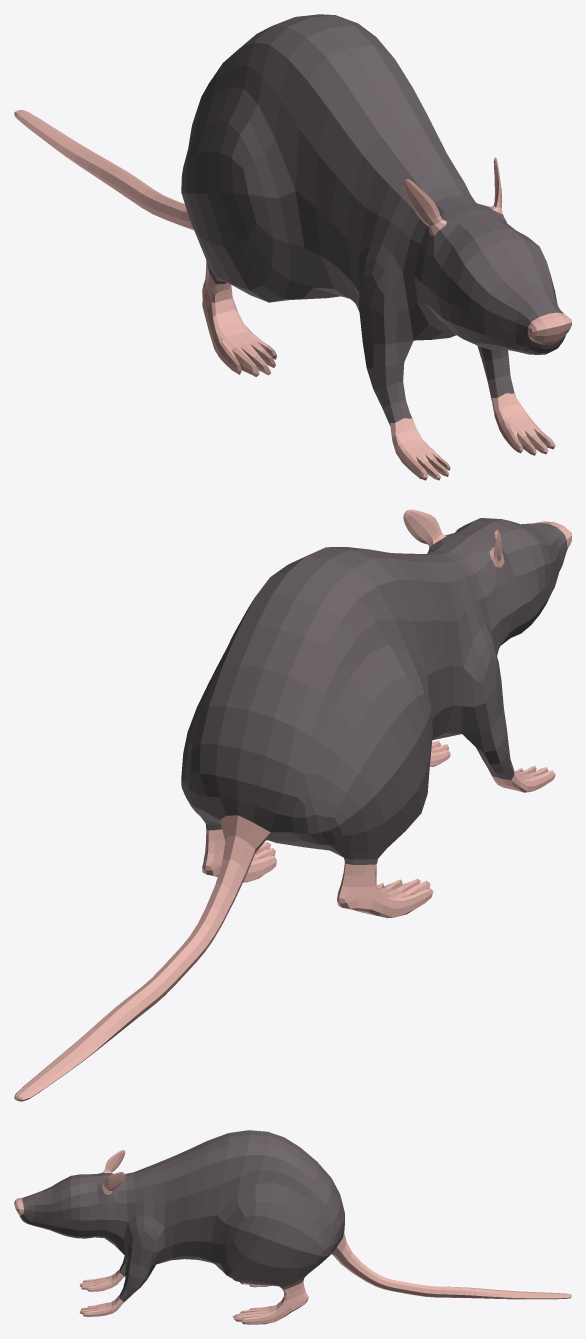
Rendered from E_Rat.glb.
3 renders of one model, top to bottom at view 1: azimuth 30°, elevation 25°; view 2: azimuth 150°, elevation 25°; view 3: azimuth 270°, elevation 25°, orthographic. The views are drawn at different scales.
Parts seen in each view (by area): view 1: SK_Rat; view 2: SK_Rat; view 3: SK_Rat.
Boxes of the visible parts, x1,y1,x2,y2 form: SK_Rat: (14, 14, 571, 480); SK_Rat: (14, 509, 571, 1101); SK_Rat: (14, 1130, 571, 1324).
Size of the model in its own units: 1.49 by 2.29 by 6.98.
